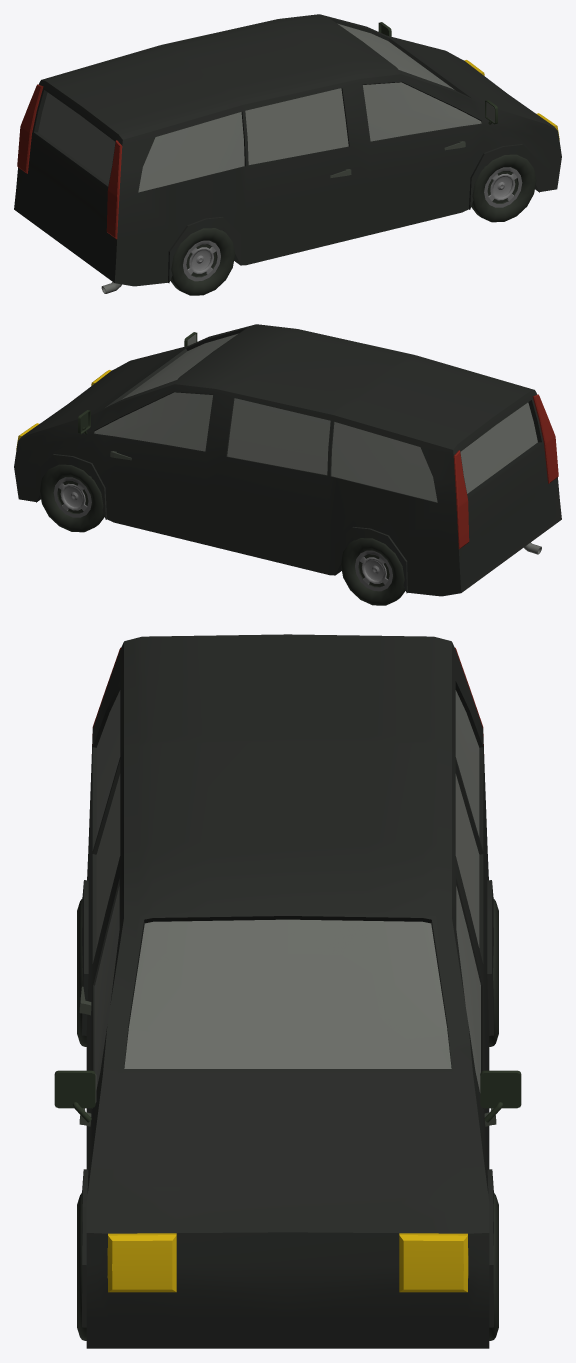
File: van.fbx
3 views of the same model, one above another, from view 1: azimuth 30°, elevation 25°; view 2: azimuth 150°, elevation 25°; view 3: azimuth 270°, elevation 25° (orthographic). The views are drawn at different scales.
Parts seen in each view (by area): view 1: Van; view 2: Van; view 3: Van.
Boxes of the visible parts, x1=… form: Van: x1=14, y1=14, x2=561, y2=295; Van: x1=14, y1=324, x2=561, y2=605; Van: x1=54, y1=634, x2=521, y2=1348.
Bounding box in the file's own units: 2826 × 1042 × 1265.
